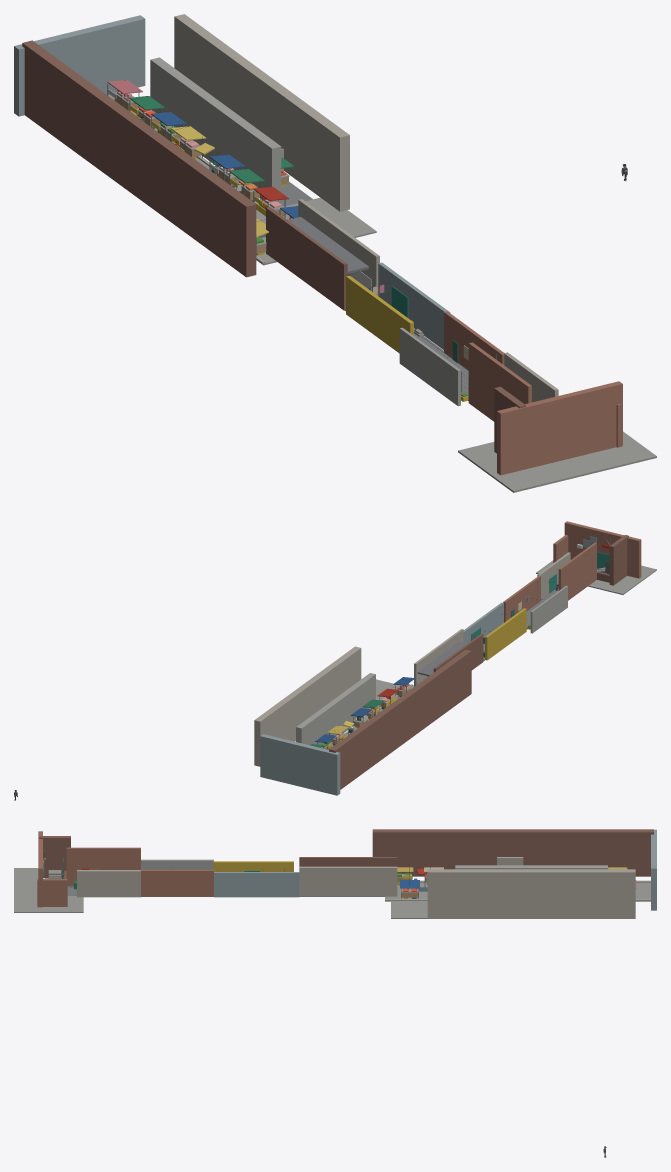
The picture shows the model from 3 angles, top to bottom: view 1: azimuth 30°, elevation 25°; view 2: azimuth 150°, elevation 25°; view 3: azimuth 270°, elevation 25°; orthographic projection. The views are drawn at different scales.
Parts seen in each view (by area): view 1: S03_west_building_long, S03_east_building_long, S01_north_brick_building, S03_divider_building, S03_north_backdrop, S02_D_west_wall, S01_ground_courtyard, S02_A_west_brick_wall, S02_C_west_yellow_shop, S02_B_fence_back_wall, S02_C_east_tile_wall, S02_D_east_wall (+4 smaller); view 2: S03_west_building_long, S03_east_building_long, S03_north_backdrop, S03_divider_building, S01_north_brick_building, S02_A_west_brick_wall, S02_C_west_yellow_shop, S02_B_fence_back_wall, S02_B_east_brick_wall, S01_west_end_building, S01_ground_courtyard, S02_C_east_tile_wall (+3 smaller); view 3: S03_east_building_long, S03_west_building_long, S02_D_east_wall, S02_C_east_tile_wall, S02_B_east_brick_wall, S02_A_west_brick_wall, S02_A_east_tile_wall, S01_ground_courtyard, S02_D_west_wall, S01_west_end_building, S03_cross_apron, S02_C_west_yellow_shop (+3 smaller).
Boxes of the visible parts, x1=… form: S03_west_building_long: x1=22, y1=40, x2=256, y2=277; S03_east_building_long: x1=174, y1=14, x2=349, y2=211; S01_north_brick_building: x1=497, y1=381, x2=622, y2=475; S03_divider_building: x1=150, y1=57, x2=281, y2=203; S03_north_backdrop: x1=14, y1=15, x2=145, y2=116; S02_D_west_wall: x1=266, y1=207, x2=347, y2=310; S01_ground_courtyard: x1=458, y1=431, x2=656, y2=492; S02_A_west_brick_wall: x1=468, y1=342, x2=531, y2=421; S02_C_west_yellow_shop: x1=346, y1=275, x2=413, y2=353; S02_B_fence_back_wall: x1=399, y1=327, x2=460, y2=406; S02_C_east_tile_wall: x1=378, y1=262, x2=450, y2=349; S02_D_east_wall: x1=298, y1=199, x2=379, y2=295; S03_west_building_long: x1=329, y1=649, x2=471, y2=789; S03_east_building_long: x1=254, y1=646, x2=361, y2=766; S03_north_backdrop: x1=260, y1=734, x2=340, y2=795; S03_divider_building: x1=296, y1=673, x2=375, y2=745; S01_north_brick_building: x1=564, y1=521, x2=641, y2=578; S02_A_west_brick_wall: x1=558, y1=542, x2=596, y2=600; S02_C_west_yellow_shop: x1=485, y1=608, x2=526, y2=660; S02_B_fence_back_wall: x1=530, y1=585, x2=567, y2=633; S02_B_east_brick_wall: x1=503, y1=576, x2=540, y2=622; S01_west_end_building: x1=609, y1=535, x2=628, y2=585; S01_ground_courtyard: x1=536, y1=560, x2=656, y2=594; S02_C_east_tile_wall: x1=463, y1=602, x2=503, y2=643; S03_east_building_long: x1=427, y1=869, x2=635, y2=918; S03_west_building_long: x1=372, y1=829, x2=653, y2=876; S02_D_east_wall: x1=299, y1=866, x2=397, y2=896; S02_C_east_tile_wall: x1=214, y1=872, x2=299, y2=897; S02_B_east_brick_wall: x1=141, y1=870, x2=213, y2=896; S02_A_west_brick_wall: x1=66, y1=847, x2=140, y2=886; S02_A_east_tile_wall: x1=77, y1=870, x2=140, y2=897; S01_ground_courtyard: x1=14, y1=868, x2=83, y2=912; S02_D_west_wall: x1=299, y1=857, x2=397, y2=866; S01_west_end_building: x1=39, y1=836, x2=70, y2=877; S03_cross_apron: x1=391, y1=882, x2=427, y2=918; S02_C_west_yellow_shop: x1=213, y1=861, x2=293, y2=871.
Size of the model in its own units: 69.32 by 28.42 by 105.
